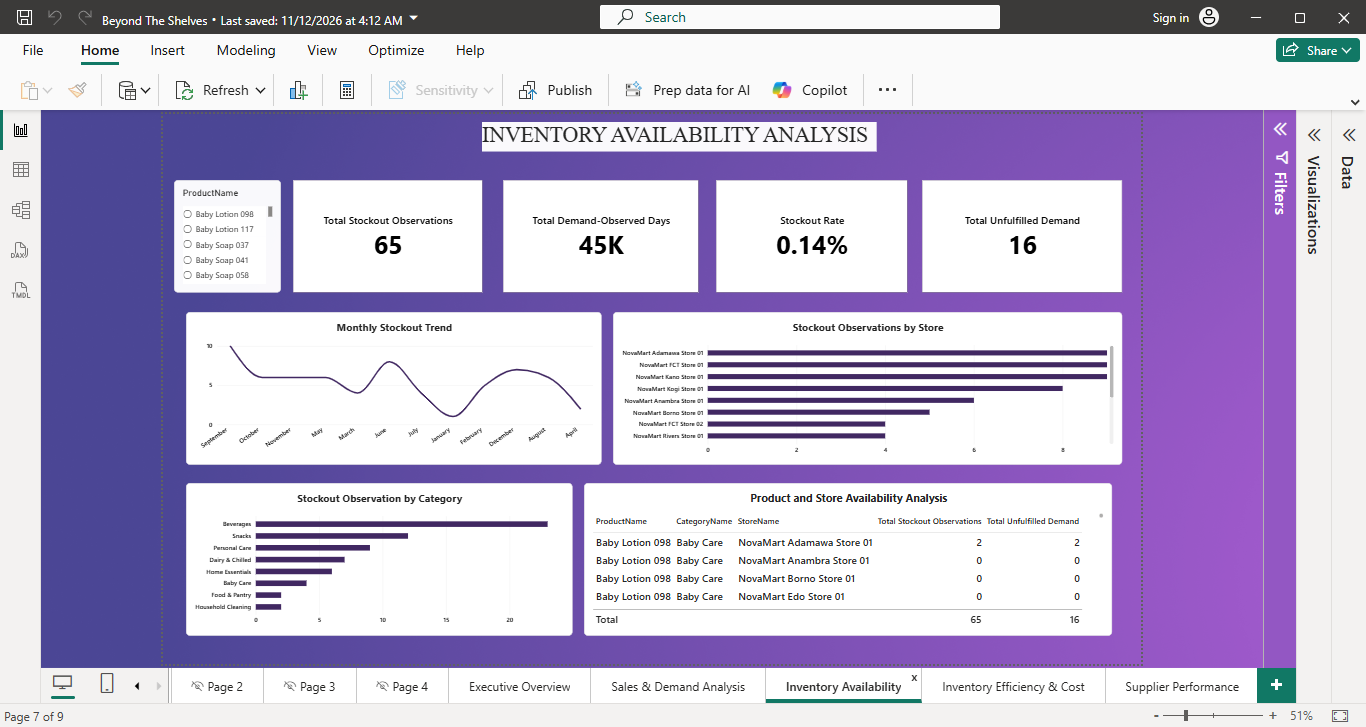

This screenshot's page, from the dashboard's own definition file:
{"tool":"powerbi","page":{"name":"Inventory Availability","canvas":[1920,1080],"ordinal":6},"visuals":[{"type":"cardVisual","fields":{"Data":["FactInventorySnapshot.Total Stockout Observations"]},"box":[255.1,129.7,372,221.1],"z":0},{"type":"textbox","box":[626.4,15.1,775.4,58.3],"z":1000},{"type":"cardVisual","fields":{"Data":["FactInventorySnapshot.Total Demand-Observed Days"]},"box":[667.6,129.7,384.8,221.1],"z":2000},{"type":"cardVisual","fields":{"Data":["FactInventorySnapshot.Stockout Rate"]},"box":[1086.4,129.7,376.3,221.1],"z":3000},{"type":"cardVisual","fields":{"Data":["FactDemand.Total Unfulfilled Demand"]},"box":[1490.3,129.7,393.3,221.1],"z":4000},{"type":"lineChart","title":"Monthly Stockout Trend","fields":{"Category":["DimDate.MonthName"],"Y":["DimCategory.Monthly Stockout Observations"]},"box":[44.6,389.1,816.4,299.8],"z":5000},{"type":"clusteredBarChart","title":"Stockout Observation by Category","fields":{"Category":["DimCategory.CategoryName"],"Y":["FactInventorySnapshot.Total Stockout Observations"]},"box":[44.6,725,759,299.8],"z":6000},{"type":"clusteredBarChart","title":"Stockout Observations by Store","fields":{"Category":["DimStore.StoreName"],"Y":["FactInventorySnapshot.Total Stockout Observations"]},"box":[883.4,388.8,1000.1,300.2],"z":7000},{"type":"tableEx","title":"Product and Store Availability Analysis","fields":{"Values":["DimProduct.ProductName","DimCategory.CategoryName","DimStore.StoreName","FactInventorySnapshot.Total Stockout Observations","FactDemand.Total Unfulfilled Demand"]},"box":[827,725,1037.5,299.8],"z":8000},{"type":"listSlicer","fields":{"Values":["DimProduct.ProductName"]},"box":[21.3,129.7,210,221],"z":9000}]}

Visuals, with their boxes on the page's 1920x1080 design canvas (x1, y1, x2, y2). These are canvas units, not pixel positions in the 1366x727 screenshot, which may show the page scaled, cropped or inside an application window:
cardVisual - FactInventorySnapshot.Total Stockout Observations: 255:130:627:351
textbox: 626:15:1402:73
cardVisual - FactInventorySnapshot.Total Demand-Observed Days: 668:130:1052:351
cardVisual - FactInventorySnapshot.Stockout Rate: 1086:130:1463:351
cardVisual - FactDemand.Total Unfulfilled Demand: 1490:130:1884:351
"Monthly Stockout Trend" lineChart: 45:389:861:689
"Stockout Observation by Category" clusteredBarChart: 45:725:804:1025
"Stockout Observations by Store" clusteredBarChart: 883:389:1884:689
"Product and Store Availability Analysis" tableEx: 827:725:1864:1025
listSlicer - DimProduct.ProductName: 21:130:231:351
